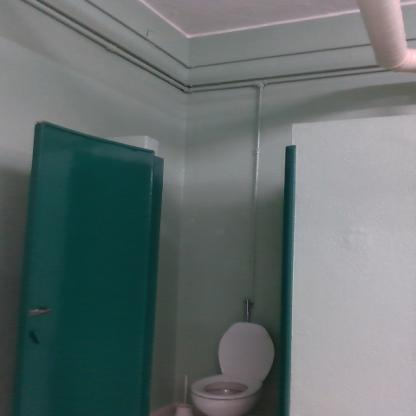open: (17, 110, 304, 416)
